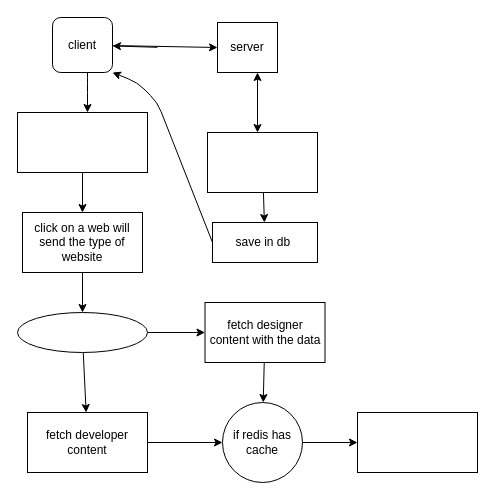
Image size: 495x500. Some labels were removed from this diagram. The box of each missing label's shape, as (x1, y1, x2, y2) in pixels:
fetch all available sites: (16, 112, 148, 172)
if type == designer: (16, 312, 148, 352)
process payload: (206, 132, 318, 192)
return by putting the data in the in html document and send through res.send: (356, 412, 478, 472)
